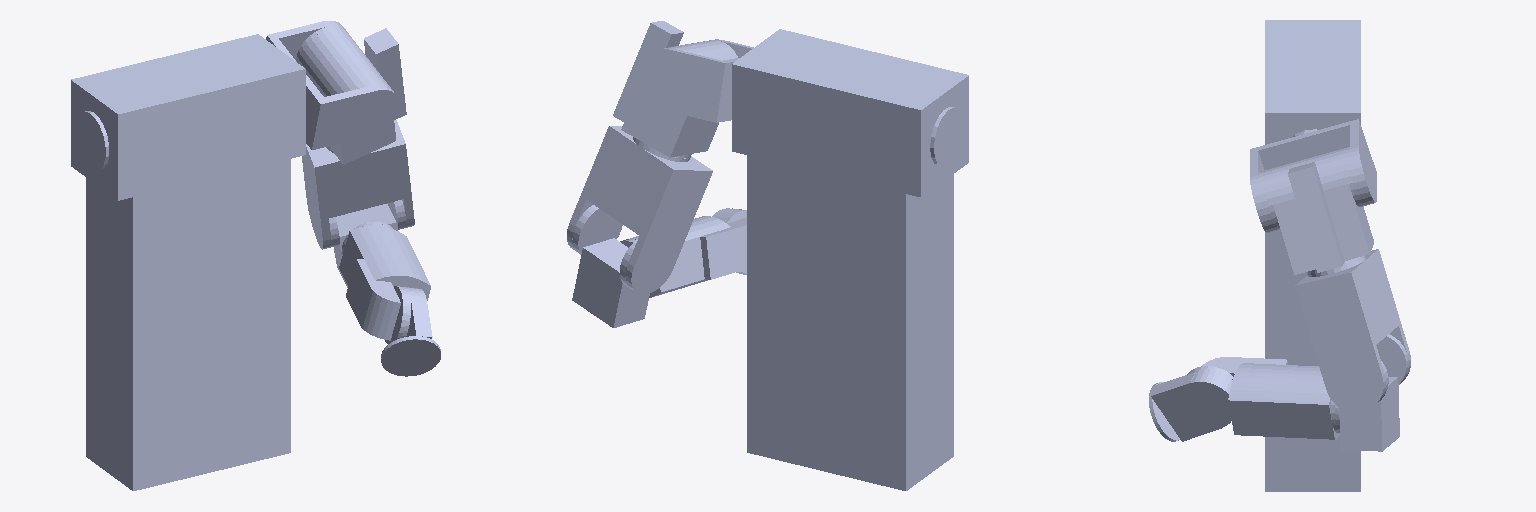
URDF robot description (torso):
<?xml version="1.0" encoding="utf-8"?>
<!-- This URDF was automatically created by SolidWorks to URDF Exporter! Originally created by [author] ([email redacted]) 
     Commit Version: 1.6.0-4-g7f85cfe  Build Version: 1.6.7995.38578
     For more information, please see http://wiki.ros.org/sw_urdf_exporter -->
<robot
  name="torso">
  <link
    name="base_link">
    <inertial>
      <origin
        xyz="0.718288450977476 0.966629059042006 1.40654797964364"
        rpy="0 0 0" />
      <mass
        value="6.00370406912332" />
      <inertia
        ixx="0.0817425851005252"
        ixy="-1.58855625042271E-17"
        ixz="-7.34449744025935E-19"
        iyy="0.0196648211381326"
        iyz="-1.15994979614662E-19"
        izz="0.0936763329102281" />
    </inertial>
    <visual>
      <origin
        xyz="0 0 0"
        rpy="0 0 0" />
      <geometry>
        <mesh
          filename="package://torso/meshes/base_link.STL" />
      </geometry>
      <material
        name="">
        <color
          rgba="0.792156862745098 0.819607843137255 0.933333333333333 1" />
      </material>
    </visual>
    <collision>
      <origin
        xyz="0 0 0"
        rpy="0 0 0" />
      <geometry>
        <mesh
          filename="package://torso/meshes/base_link.STL" />
      </geometry>
    </collision>
  </link>
  <link
    name="outer_shoulder">
    <inertial>
      <origin
        xyz="2.22044604925031E-16 -0.0345343125421843 2.22044604925031E-16"
        rpy="0 0 0" />
      <mass
        value="0.142444172808288" />
      <inertia
        ixx="0.000144297517121002"
        ixy="-5.83302055939206E-19"
        ixz="1.82959116606929E-19"
        iyy="0.000265816972965645"
        iyz="1.14863005504482E-19"
        izz="0.000342100331679131" />
    </inertial>
    <visual>
      <origin
        xyz="0 0 0"
        rpy="0 0 0" />
      <geometry>
        <mesh
          filename="package://torso/meshes/outer_shoulder.STL" />
      </geometry>
      <material
        name="">
        <color
          rgba="0.792156862745098 0.819607843137255 0.933333333333333 1" />
      </material>
    </visual>
    <collision>
      <origin
        xyz="0 0 0"
        rpy="0 0 0" />
      <geometry>
        <mesh
          filename="package://torso/meshes/outer_shoulder.STL" />
      </geometry>
    </collision>
  </link>
  <joint
    name="outer_shoulder_joint"
    type="revolute">
    <origin
      xyz="0.82229 -1.4065 1.1099"
      rpy="0 -0.29835 1.5708" />
    <parent
      link="base_link" />
    <child
      link="outer_shoulder" />
    <axis
      xyz="0 1 0" />
    <limit
      lower="0"
      upper="0"
      effort="0"
      velocity="0" />
  </joint>
  <link
    name="inner_shoulder">
    <inertial>
      <origin
        xyz="0.00494049075931313 5.32907051820075E-15 -0.0224791847510397"
        rpy="0 0 0" />
      <mass
        value="0.447696414739891" />
      <inertia
        ixx="0.000520297172086548"
        ixy="-8.13151629364128E-20"
        ixz="-5.48355999973819E-06"
        iyy="0.000505507821238447"
        iyz="1.01643953670516E-19"
        izz="0.000364836443263981" />
    </inertial>
    <visual>
      <origin
        xyz="0 0 0"
        rpy="0 0 0" />
      <geometry>
        <mesh
          filename="package://torso/meshes/inner_shoulder.STL" />
      </geometry>
      <material
        name="">
        <color
          rgba="0.792156862745098 0.819607843137255 0.933333333333333 1" />
      </material>
    </visual>
    <collision>
      <origin
        xyz="0 0 0"
        rpy="0 0 0" />
      <geometry>
        <mesh
          filename="package://torso/meshes/inner_shoulder.STL" />
      </geometry>
    </collision>
  </link>
  <joint
    name="inner_shoulder_joint"
    type="revolute">
    <origin
      xyz="0 -0.064 0"
      rpy="0 -0.25719 -1.5708" />
    <parent
      link="outer_shoulder" />
    <child
      link="inner_shoulder" />
    <axis
      xyz="0 1 0" />
    <limit
      lower="0"
      upper="0"
      effort="0"
      velocity="0" />
  </joint>
  <link
    name="arm">
    <inertial>
      <origin
        xyz="2.22044604925031E-16 5.55111512312578E-16 0.0518244798169354"
        rpy="0 0 0" />
      <mass
        value="0.409460103684972" />
      <inertia
        ixx="0.00043771678495871"
        ixy="2.03287907341032E-20"
        ixz="-3.72694496791892E-20"
        iyy="0.000635454002376501"
        iyz="-2.46655994240452E-18"
        izz="0.000407886367395634" />
    </inertial>
    <visual>
      <origin
        xyz="0 0 0"
        rpy="0 0 0" />
      <geometry>
        <mesh
          filename="package://torso/meshes/arm.STL" />
      </geometry>
      <material
        name="">
        <color
          rgba="0.792156862745098 0.819607843137255 0.933333333333333 1" />
      </material>
    </visual>
    <collision>
      <origin
        xyz="0 0 0"
        rpy="0 0 0" />
      <geometry>
        <mesh
          filename="package://torso/meshes/arm.STL" />
      </geometry>
    </collision>
  </link>
  <joint
    name="arm_joint"
    type="revolute">
    <origin
      xyz="0 0 -0.065976"
      rpy="-3.1416 0 -0.22557" />
    <parent
      link="inner_shoulder" />
    <child
      link="arm" />
    <axis
      xyz="0 0 1" />
    <limit
      lower="0"
      upper="0"
      effort="0"
      velocity="0" />
  </joint>
  <link
    name="elbow">
    <inertial>
      <origin
        xyz="-0.00124066712054338 -2.22044604925031E-16 0.0305258147158514"
        rpy="0 0 0" />
      <mass
        value="0.174700172808288" />
      <inertia
        ixx="0.000165715840874616"
        ixy="5.75982404132924E-20"
        ixz="3.19521936133811E-07"
        iyy="0.000119401019571205"
        iyz="9.68793933422106E-20"
        izz="0.000104238703515156" />
    </inertial>
    <visual>
      <origin
        xyz="0 0 0"
        rpy="0 0 0" />
      <geometry>
        <mesh
          filename="package://torso/meshes/elbow.STL" />
      </geometry>
      <material
        name="">
        <color
          rgba="0.792156862745098 0.819607843137255 0.933333333333333 1" />
      </material>
    </visual>
    <collision>
      <origin
        xyz="0 0 0"
        rpy="0 0 0" />
      <geometry>
        <mesh
          filename="package://torso/meshes/elbow.STL" />
      </geometry>
    </collision>
  </link>
  <joint
    name="elbow_joint"
    type="revolute">
    <origin
      xyz="0 0 0.11002"
      rpy="0 -0.27103 -1.5708" />
    <parent
      link="arm" />
    <child
      link="elbow" />
    <axis
      xyz="0 1 0" />
    <limit
      lower="0"
      upper="0"
      effort="0"
      velocity="0" />
  </joint>
  <link
    name="forearm">
    <inertial>
      <origin
        xyz="-0.00377147733492511 0.0461382624798303 -5.66810443025645E-09"
        rpy="0 0 0" />
      <mass
        value="0.337994933374247" />
      <inertia
        ixx="0.000497720839329984"
        ixy="5.83749050987914E-05"
        ixz="-3.96969848638439E-11"
        iyy="0.000165354478238505"
        iyz="-1.93145058628686E-12"
        izz="0.00052370884651294" />
    </inertial>
    <visual>
      <origin
        xyz="0 0 0"
        rpy="0 0 0" />
      <geometry>
        <mesh
          filename="package://torso/meshes/forearm.STL" />
      </geometry>
      <material
        name="">
        <color
          rgba="0.792156862745098 0.819607843137255 0.933333333333333 1" />
      </material>
    </visual>
    <collision>
      <origin
        xyz="0 0 0"
        rpy="0 0 0" />
      <geometry>
        <mesh
          filename="package://torso/meshes/forearm.STL" />
      </geometry>
    </collision>
  </link>
  <joint
    name="forearm_joint"
    type="revolute">
    <origin
      xyz="-0.038118 0 0.032"
      rpy="0 -0.40915 1.5708" />
    <parent
      link="elbow" />
    <child
      link="forearm" />
    <axis
      xyz="0 1 0" />
    <limit
      lower="0"
      upper="0"
      effort="0"
      velocity="0" />
  </joint>
  <link
    name="wrist">
    <inertial>
      <origin
        xyz="0.00227165123617445 2.22044604925031E-16 0.0141245009064419"
        rpy="0 0 0" />
      <mass
        value="0.0777859878929852" />
      <inertia
        ixx="5.37973694478375E-05"
        ixy="-4.02340649945793E-20"
        ixz="-8.61421306101721E-08"
        iyy="4.02391952266775E-05"
        iyz="-6.18334051495639E-20"
        izz="2.16897600970846E-05" />
    </inertial>
    <visual>
      <origin
        xyz="0 0 0"
        rpy="0 0 0" />
      <geometry>
        <mesh
          filename="package://torso/meshes/wrist.STL" />
      </geometry>
      <material
        name="">
        <color
          rgba="0.792156862745098 0.819607843137255 0.933333333333333 1" />
      </material>
    </visual>
    <collision>
      <origin
        xyz="0 0 0"
        rpy="0 0 0" />
      <geometry>
        <mesh
          filename="package://torso/meshes/wrist.STL" />
      </geometry>
    </collision>
  </link>
  <joint
    name="wrist_joint"
    type="revolute">
    <origin
      xyz="0 0.11388 0"
      rpy="-1.16 0 0" />
    <parent
      link="forearm" />
    <child
      link="wrist" />
    <axis
      xyz="1 0 0" />
    <limit
      lower="0"
      upper="0"
      effort="0"
      velocity="0" />
  </joint>
</robot>

--- Facts derived from the render (not from the file) ---
Views: 3 orthographic renders of the robot side by side, from view 1: azimuth 30°, elevation 25°; view 2: azimuth 150°, elevation 25°; view 3: azimuth 270°, elevation 25°.
Model torso with 7 links and 6 joints (6 revolute), rooted at base_link, posed all joints at 0.
Links seen in each view (by area): view 1: base_link, forearm, arm, inner_shoulder, outer_shoulder, wrist, elbow; view 2: base_link, arm, inner_shoulder, elbow, outer_shoulder, forearm; view 3: base_link, arm, inner_shoulder, forearm, outer_shoulder, wrist, elbow.
Boxes of the visible links, <box> form: base_link: <box>71,34,305,490</box>; forearm: <box>339,224,430,343</box>; arm: <box>302,120,414,249</box>; inner_shoulder: <box>298,28,406,164</box>; outer_shoulder: <box>266,21,398,149</box>; wrist: <box>381,287,440,376</box>; elbow: <box>329,200,405,287</box>; base_link: <box>732,29,968,490</box>; arm: <box>567,126,712,294</box>; inner_shoulder: <box>613,21,735,158</box>; elbow: <box>572,205,650,327</box>; outer_shoulder: <box>637,39,753,122</box>; forearm: <box>620,210,746,297</box>; base_link: <box>1265,20,1360,491</box>; arm: <box>1295,249,1410,412</box>; inner_shoulder: <box>1262,147,1373,274</box>; forearm: <box>1187,357,1339,439</box>; outer_shoulder: <box>1250,119,1376,232</box>; wrist: <box>1149,369,1232,441</box>; elbow: <box>1335,334,1408,451</box>.
Bounding box of the posed robot: 0.3676 × 0.2394 × 0.388 m (x, y, z).
Meshes: 7 distinct files referenced, 7 mesh visuals loaded (7 binary STL).